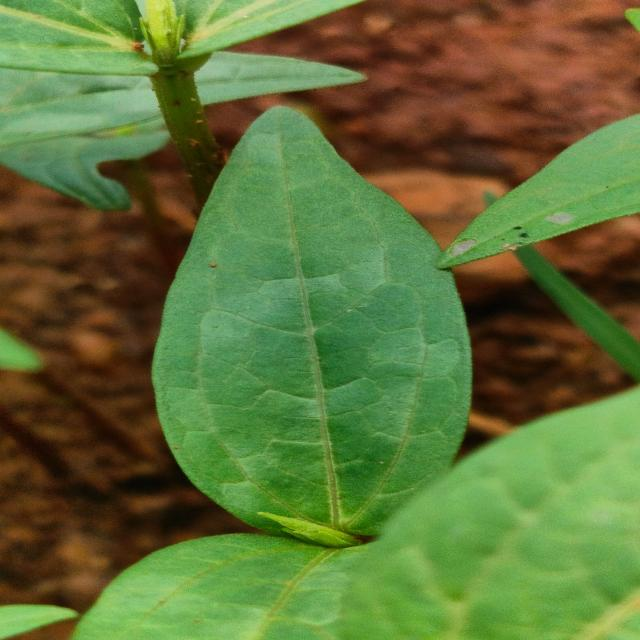Black gram_healthy: (148, 101, 467, 538)
